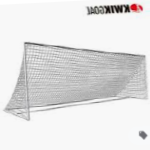goals: (4, 41, 150, 123)
